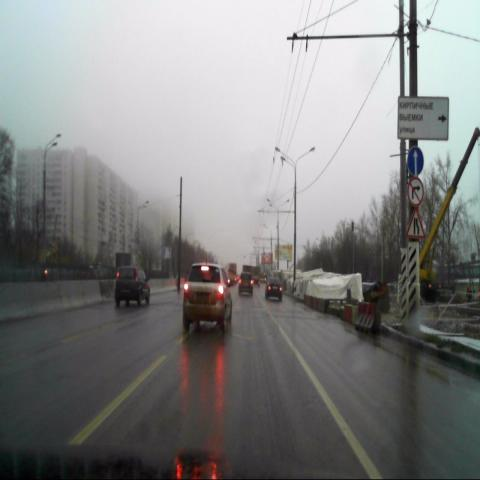1_20_2: (406, 208, 425, 239)
